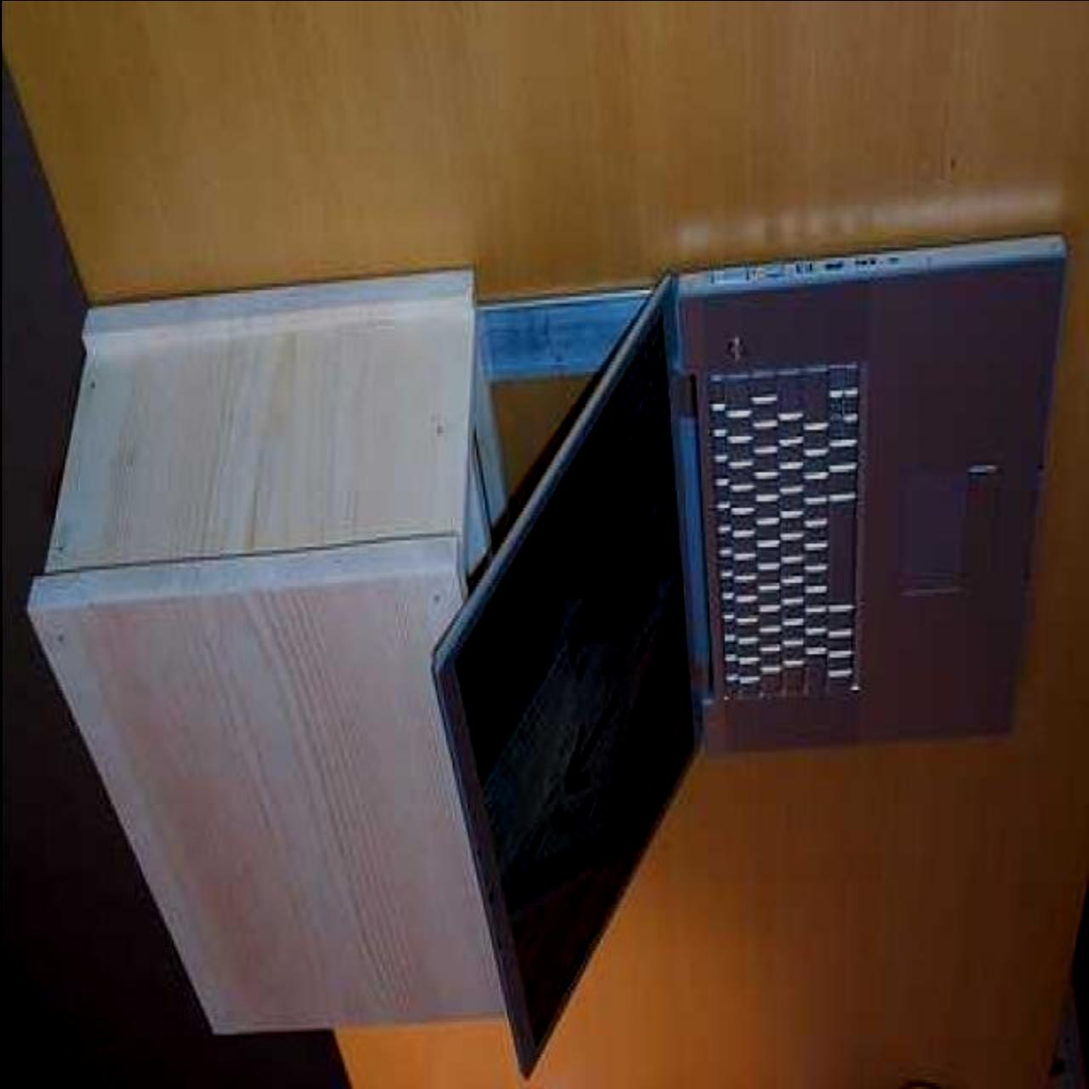laptop: (436, 267, 1035, 1074)
